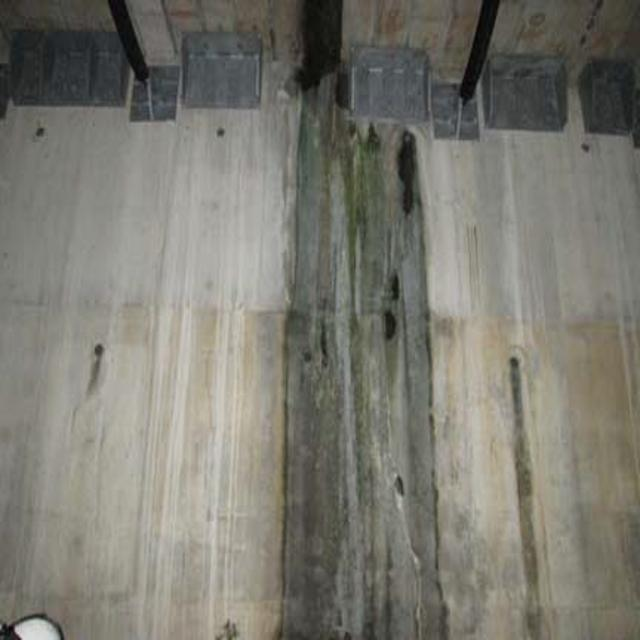leakage: (280, 81, 454, 640)
